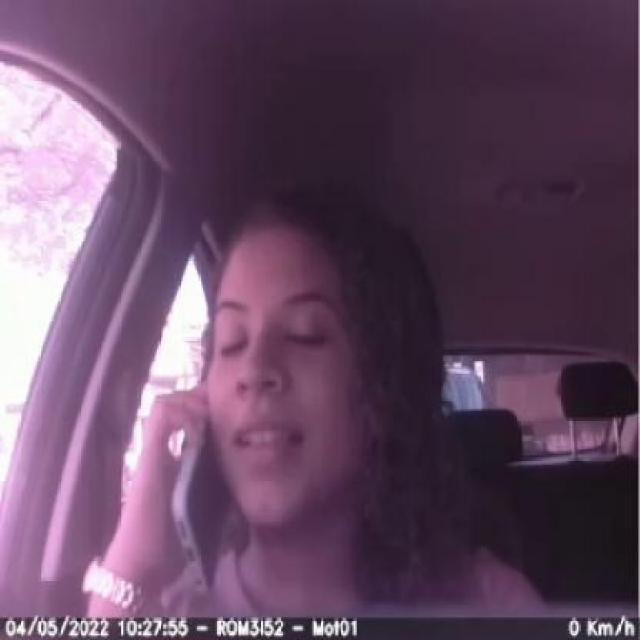using_phone: (86, 351, 279, 591)
